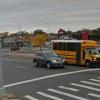Bus: (46, 36, 100, 64)
